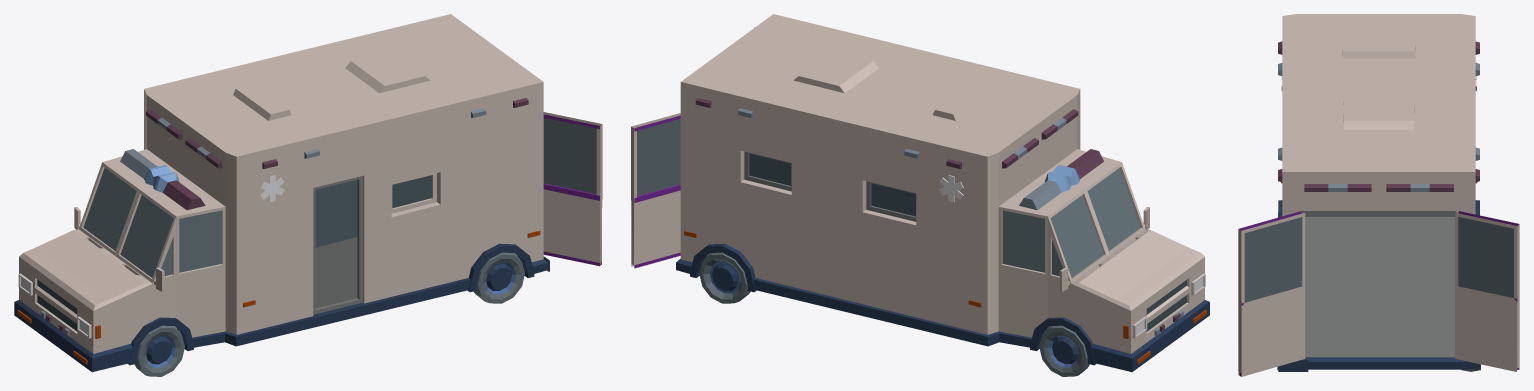
File: AmbulanceEdited.glb
The picture shows the model from 3 angles, left to right: view 1: azimuth 30°, elevation 25°; view 2: azimuth 150°, elevation 25°; view 3: azimuth 270°, elevation 25°; orthographic projection. The views are drawn at different scales.
Parts seen in each view (by area): view 1: Ambulance-Truck, Ambulance-Truck.001, Ambulance-Truck_TireFL, Ambulance-Truck_TireBL; view 2: Ambulance-Truck, Ambulance-Truck.002, Ambulance-Truck_TireFR, Ambulance-Truck_TireBR; view 3: Ambulance-Truck, Ambulance-Truck.001, Ambulance-Truck.002.
Part boxes in pixels (x1,y1,x2,y2): Ambulance-Truck: (14,14,549,372); Ambulance-Truck.001: (543,112,602,266); Ambulance-Truck_TireFL: (134,325,184,376); Ambulance-Truck_TireBL: (473,252,524,303); Ambulance-Truck: (676,14,1209,371); Ambulance-Truck.002: (631,113,680,268); Ambulance-Truck_TireFR: (1039,325,1089,376); Ambulance-Truck_TireBR: (699,252,750,303); Ambulance-Truck: (1278,14,1479,371); Ambulance-Truck.001: (1238,211,1305,376); Ambulance-Truck.002: (1455,211,1519,371).
Bounding box in the file's own units: 2.41 × 1.03 × 1.17.
Materials: 2 (2 with a texture image).
